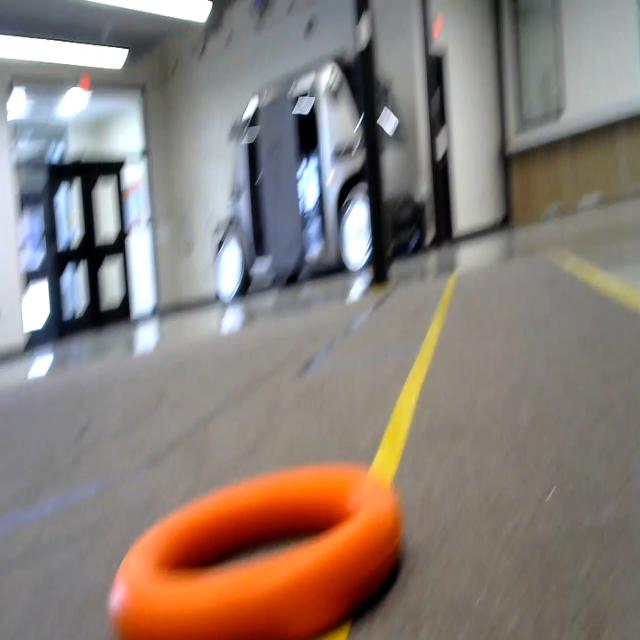note: (110, 478, 414, 640)
